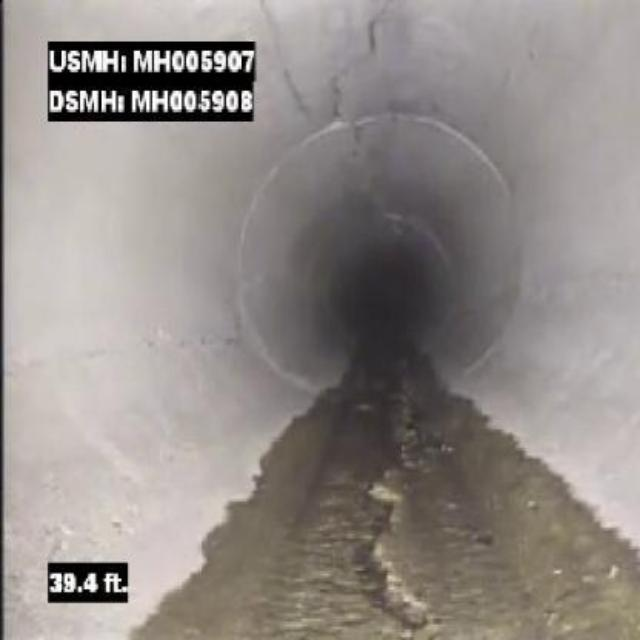Buckling: (354, 408, 454, 635)
Crack: (325, 3, 394, 108), (125, 325, 246, 363)
